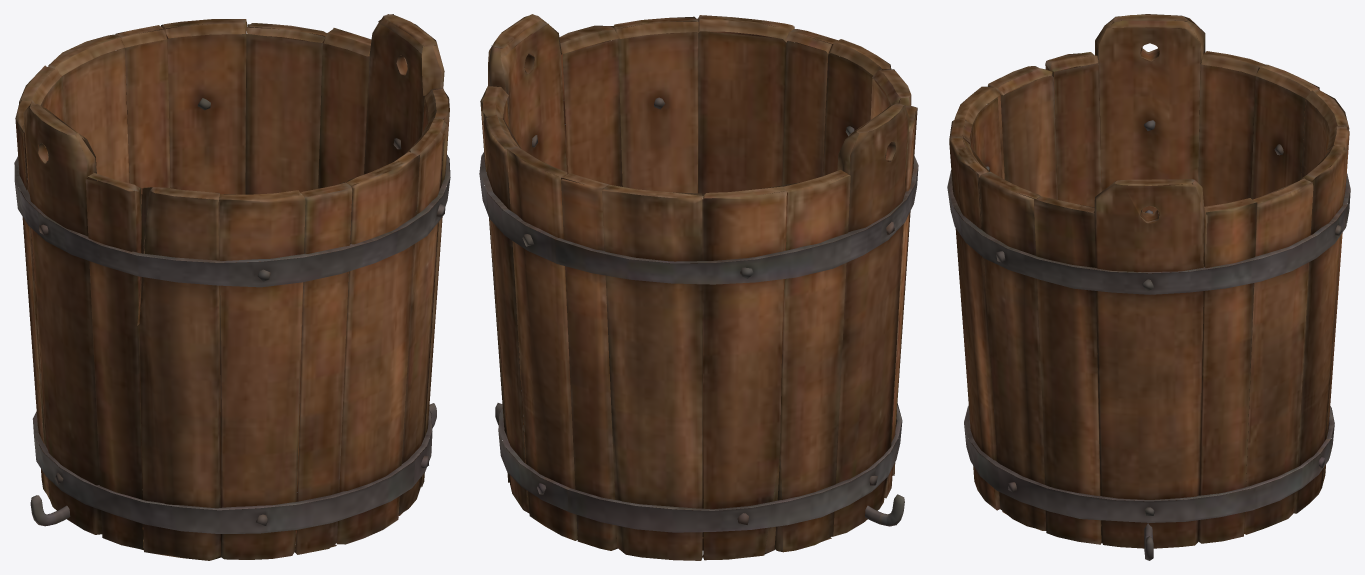
Rendered from balde.glb.
3 views of the same model, side by side, from view 1: azimuth 30°, elevation 25°; view 2: azimuth 150°, elevation 25°; view 3: azimuth 270°, elevation 25° (orthographic). The views are drawn at different scales.
Parts seen in each view (by area): view 1: balde; view 2: balde; view 3: balde.
Part boxes in pixels (x1,y1,x2,y2): balde: [14, 14, 450, 560]; balde: [479, 14, 918, 560]; balde: [947, 14, 1350, 560].
Bounding box in the file's own units: 0.367 × 0.3501 × 0.3412.
Materials: 1 (1 with a texture image).
